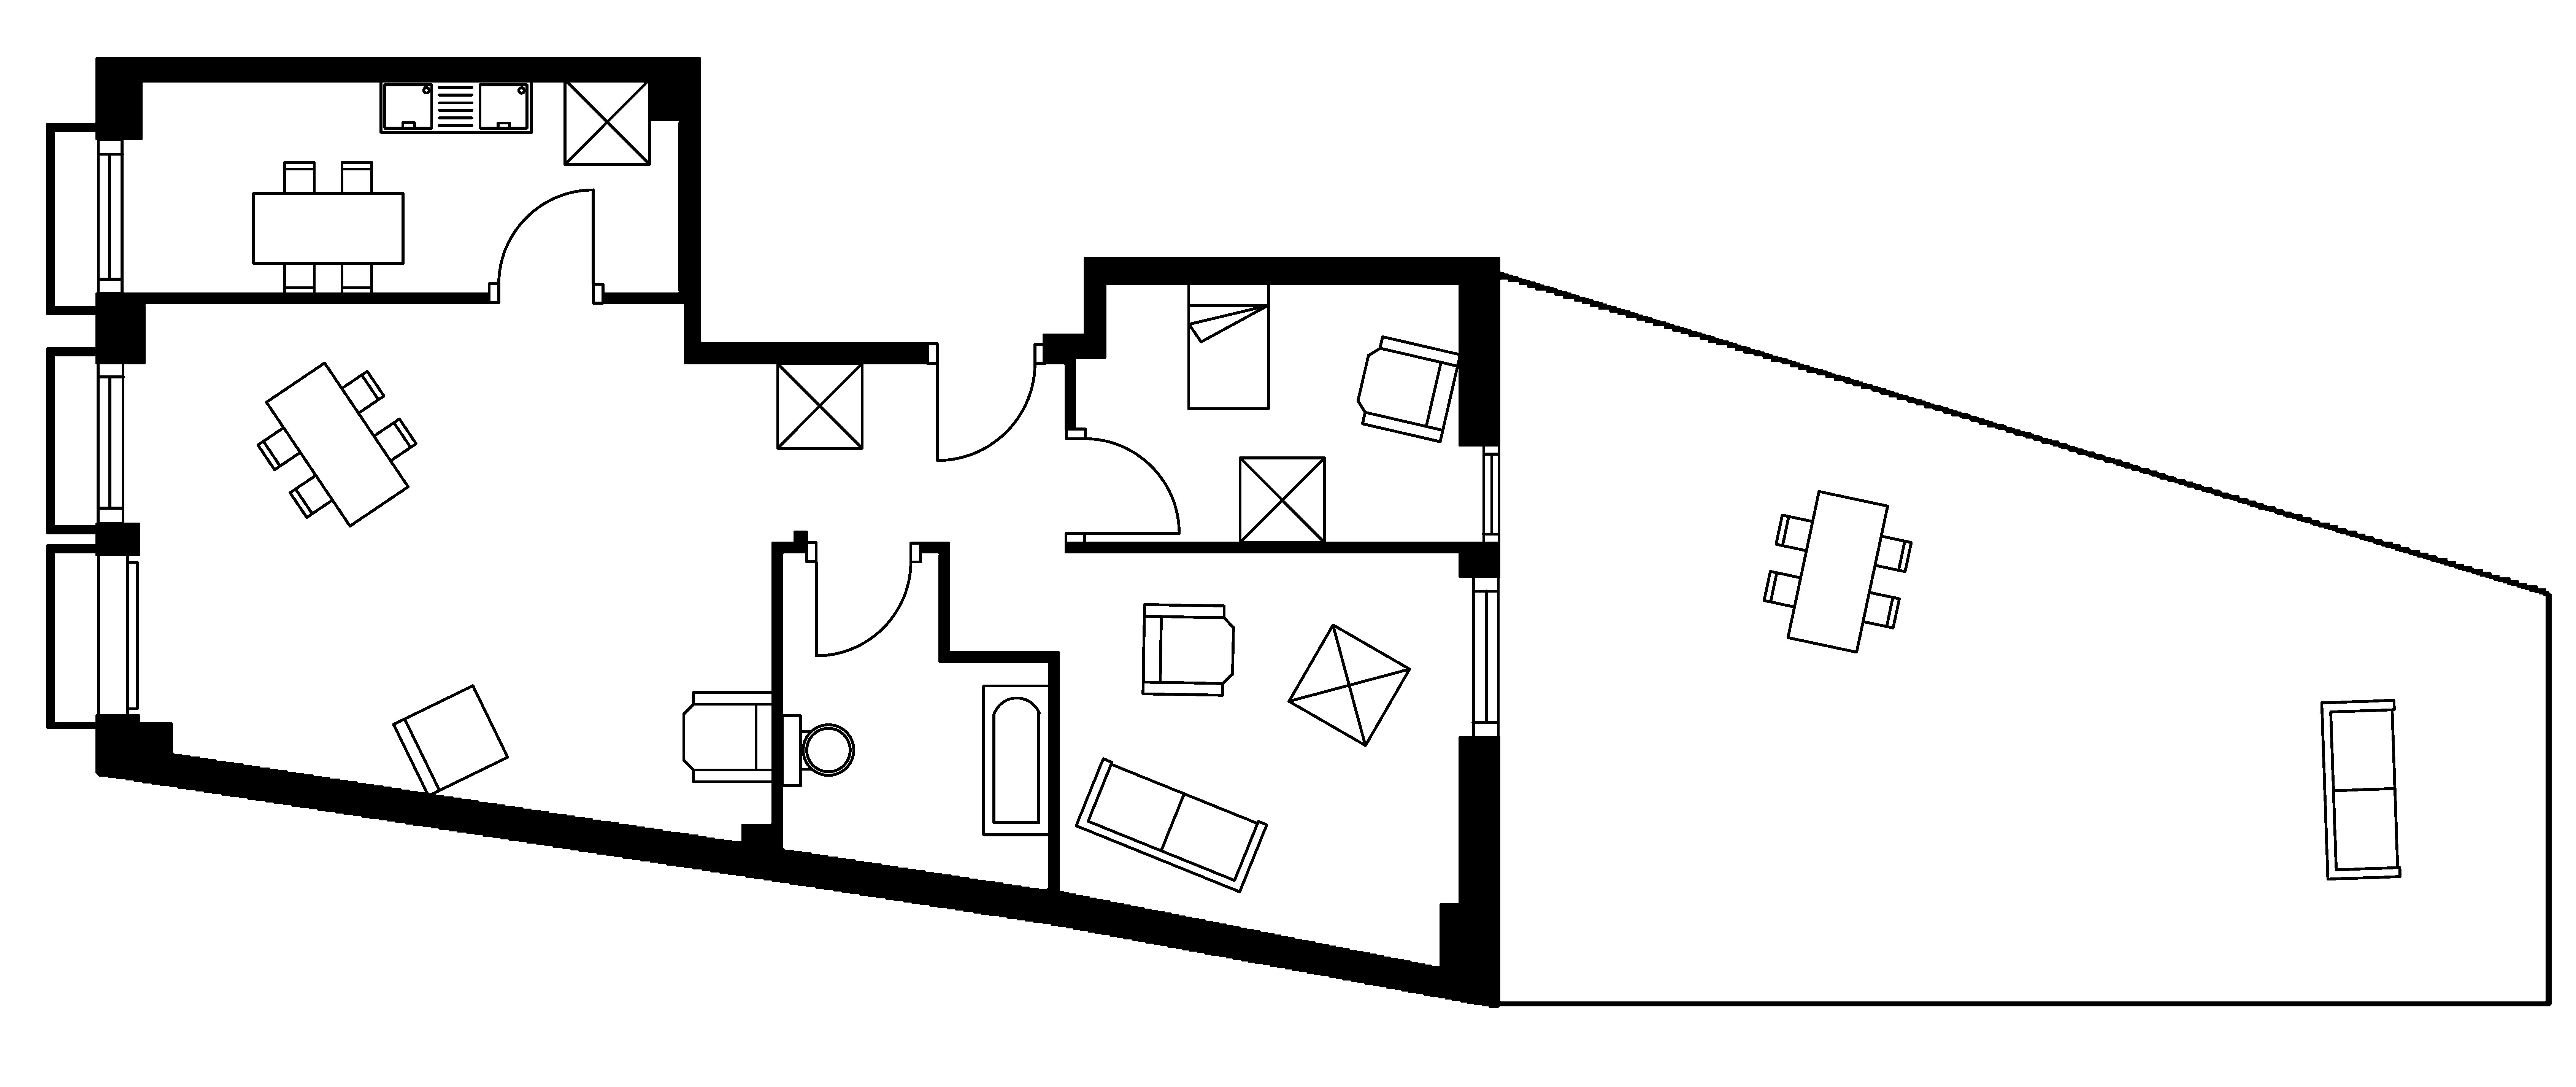armchair: (1355, 335, 1462, 442), (1140, 602, 1235, 697), (682, 691, 774, 783)
bed: (1186, 281, 1270, 411)
coffee_table: (1286, 623, 1411, 747), (562, 77, 651, 166), (775, 362, 864, 451), (1237, 456, 1326, 544)
dining_table: (256, 360, 417, 528), (1761, 488, 1912, 655), (251, 160, 404, 296)
large_sink: (780, 714, 854, 788)
large_sofa: (1074, 756, 1268, 893), (2320, 699, 2402, 881)
small_sofa: (391, 684, 509, 798)
tub: (981, 684, 1051, 837)
twin_sink: (378, 77, 532, 133)
